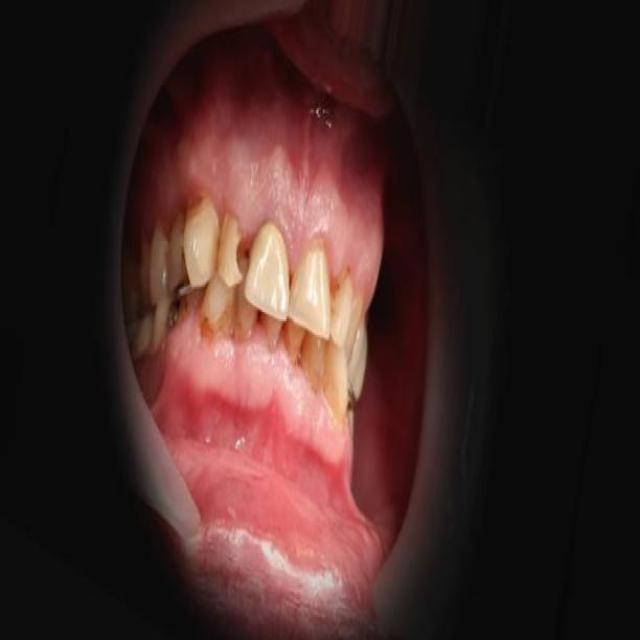caries: (168, 286, 193, 334), (196, 306, 220, 354), (332, 258, 356, 306), (184, 184, 211, 225), (231, 229, 251, 280)
